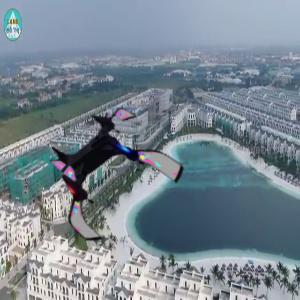drone: (39, 108, 177, 246)
